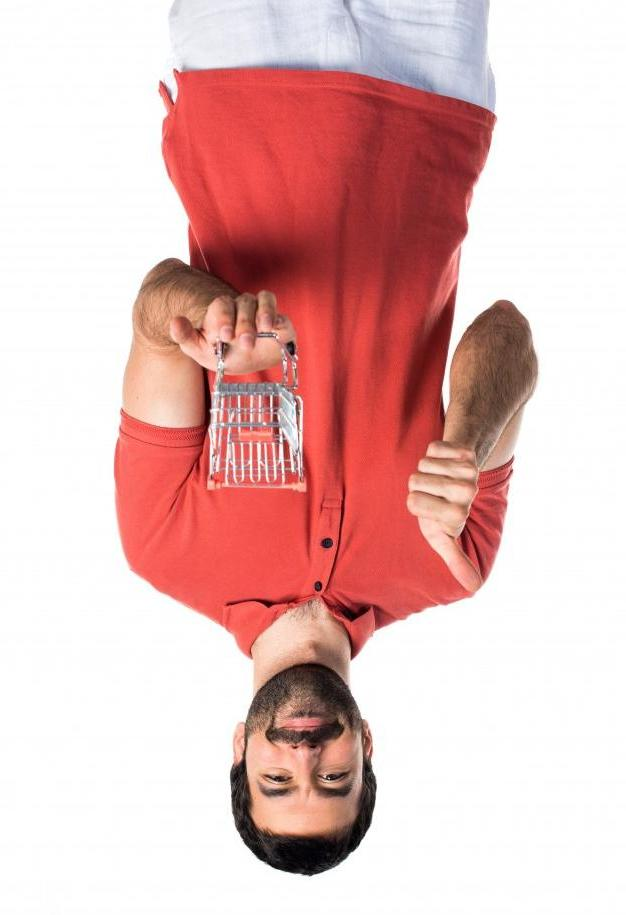thumbsdown: (406, 440, 482, 591)
